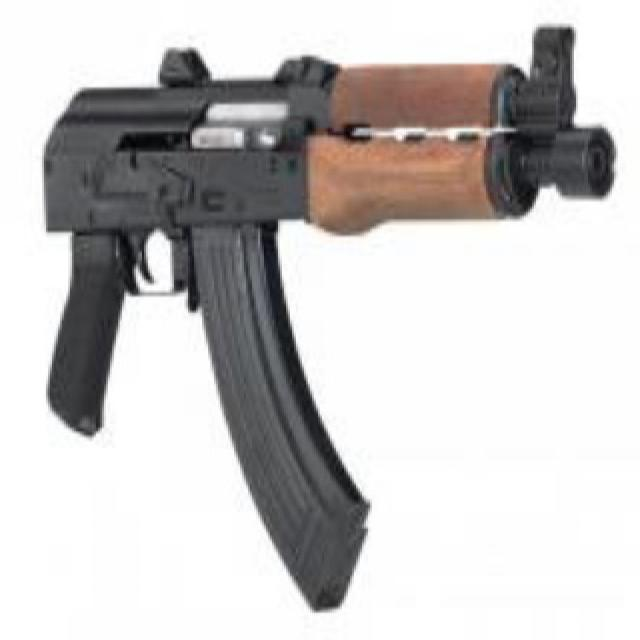long weapon: (32, 19, 620, 610)
